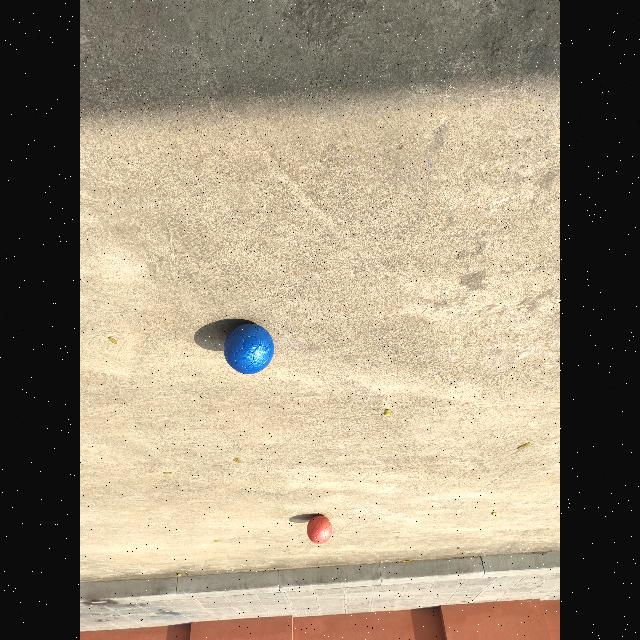B: (224, 323, 273, 375)
R: (307, 515, 333, 543)
